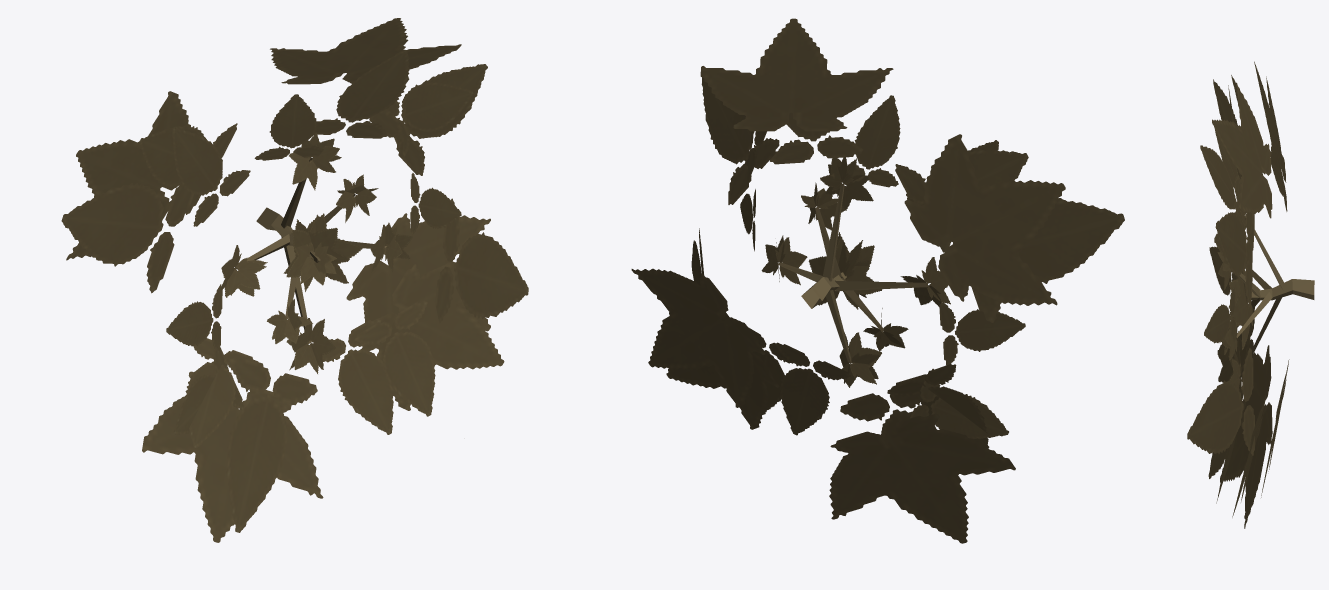
The model's file is p_afghan_vegetative_c4_cards.obj.
3 views of the same model, side by side, from view 1: azimuth 30°, elevation 25°; view 2: azimuth 150°, elevation 25°; view 3: azimuth 270°, elevation 25° (orthographic). The views are drawn at different scales.
Size of the model in its own units: 1.18 by 1.17 by 0.269.
1 material, 1 textured.
